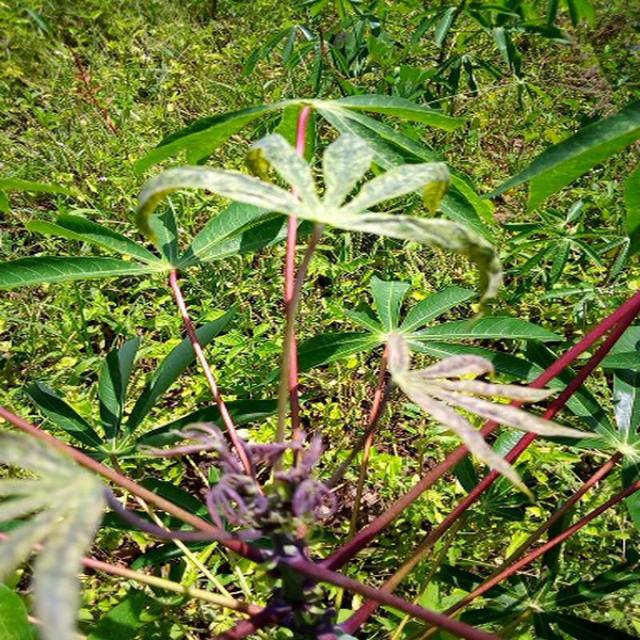cassava leaf: (134, 128, 503, 304)
